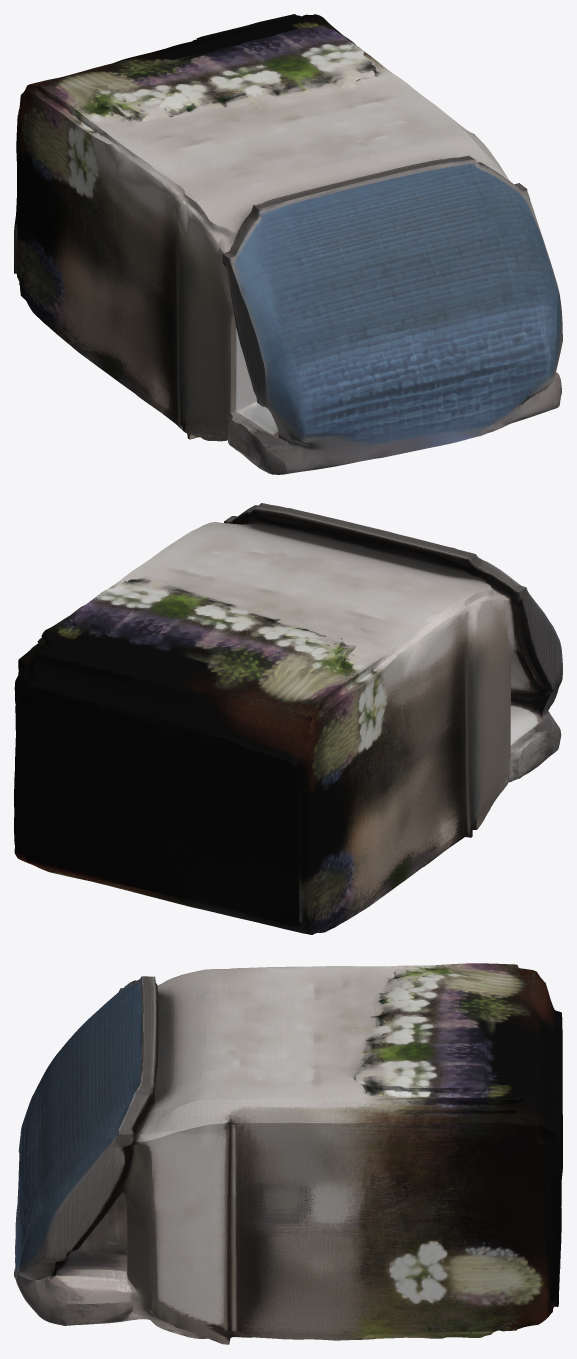
File: out_sim.glb
3 renders of one model, top to bottom at view 1: azimuth 30°, elevation 25°; view 2: azimuth 150°, elevation 25°; view 3: azimuth 270°, elevation 25°, orthographic.
Parts seen in each view (by area): view 1: world; view 2: world; view 3: world.
Part boxes in pixels (box(x1,y1,x2,y2)): world: box(14, 14, 562, 474); world: box(14, 503, 562, 934); world: box(14, 963, 562, 1344).
Size of the model in its own units: 0.6355 by 0.5097 by 0.9985.
1 material, 1 textured.
